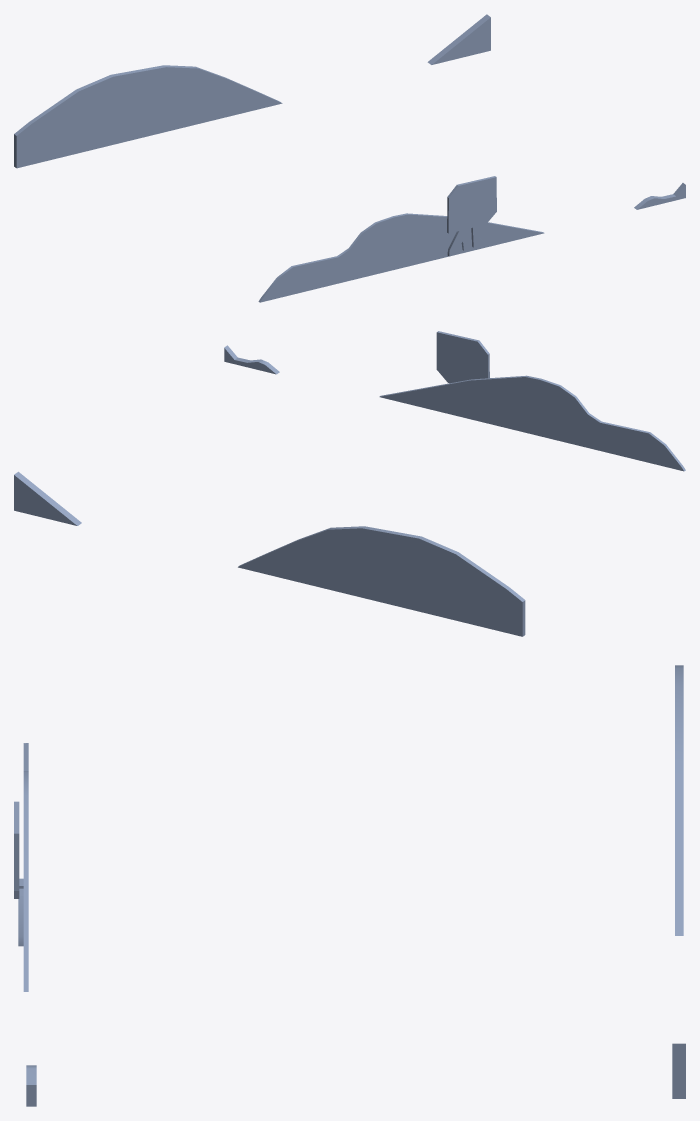
Rendered from frame_0077.glb.
3 views of the same model, one above another, from view 1: azimuth 30°, elevation 25°; view 2: azimuth 150°, elevation 25°; view 3: azimuth 270°, elevation 25° (orthographic). The views are drawn at different scales.
Parts seen in each view (by area): view 1: export_trees_001.002; view 2: export_trees_001.002; view 3: export_trees_001.002.
Part boxes in pixels (x1,y1,x2,y2): export_trees_001.002: [14, 14, 685, 302]; export_trees_001.002: [14, 331, 685, 636]; export_trees_001.002: [14, 665, 685, 1106].
Size of the model in its own units: 0.4327 by 0.0622 by 0.321.
